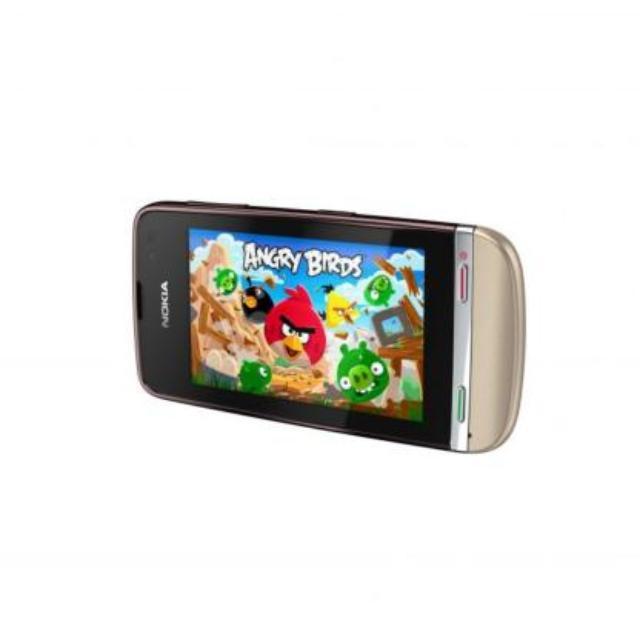Smartphone: (118, 118, 546, 474)
